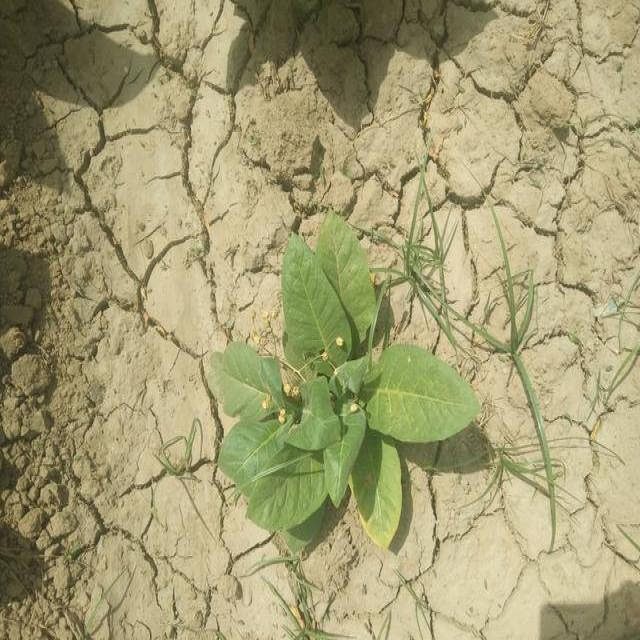crop: (206, 218, 478, 559)
